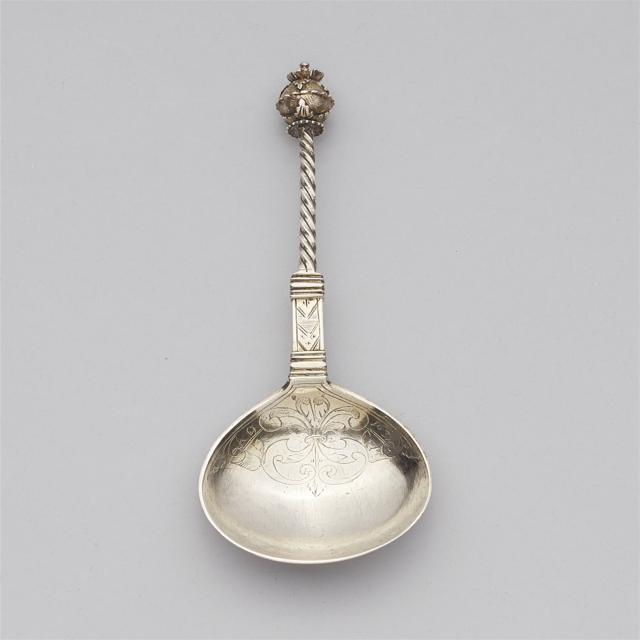spoon: (137, 42, 480, 586)
